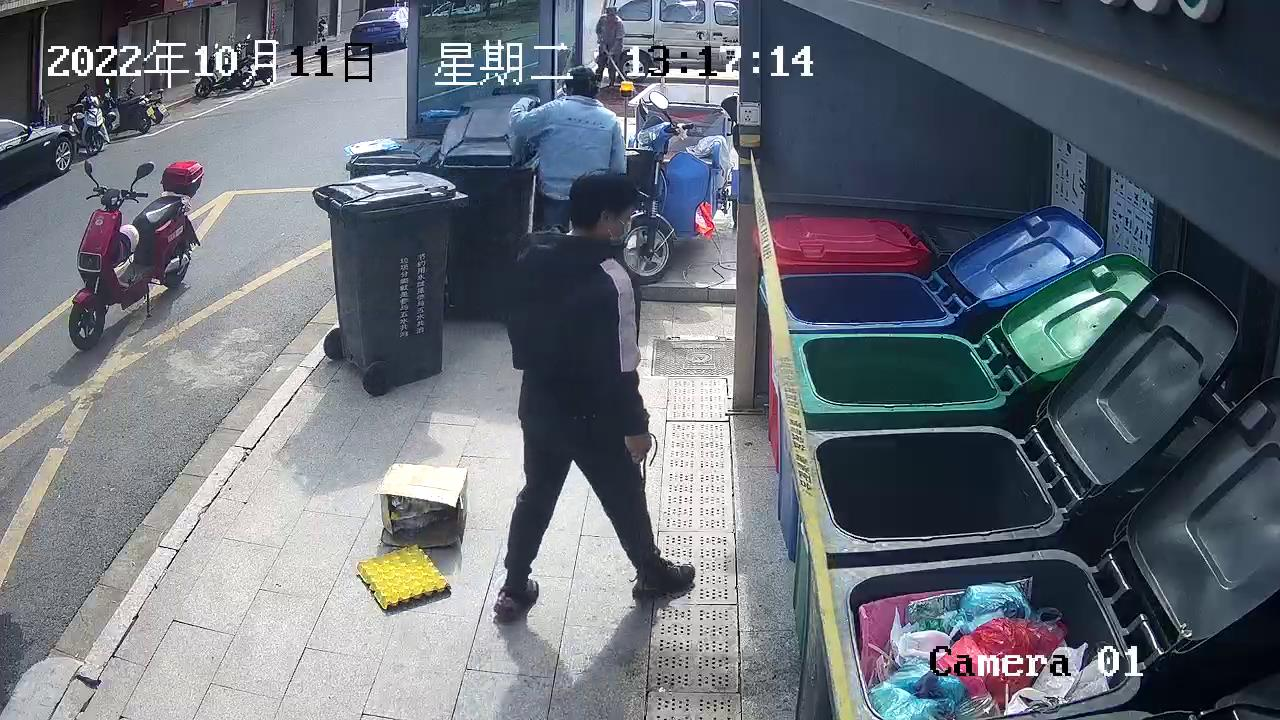person: (491, 168, 697, 621)
worker: (508, 65, 628, 232)
zhizhipin: (373, 460, 470, 552), (354, 542, 452, 615)
